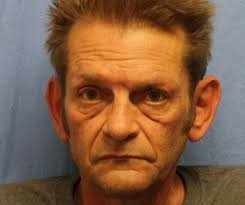middle_eastern_male: (65, 12, 196, 193)
